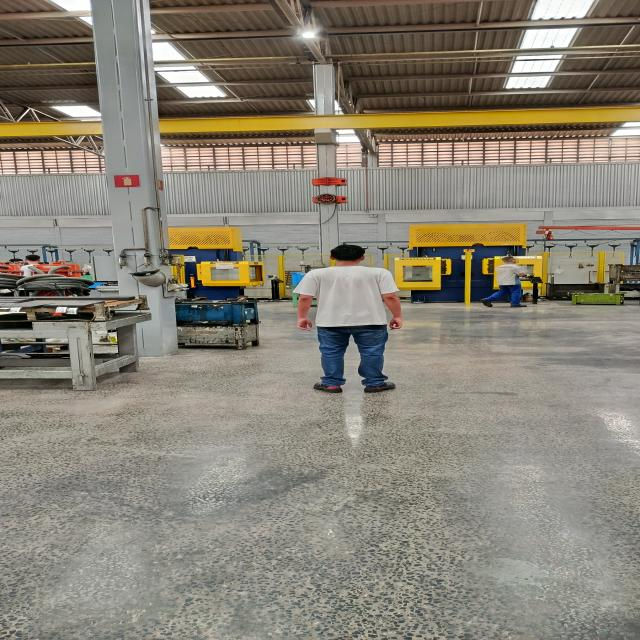oculos-epi: (16, 263, 23, 265), (515, 259, 517, 260), (513, 259, 515, 259)
